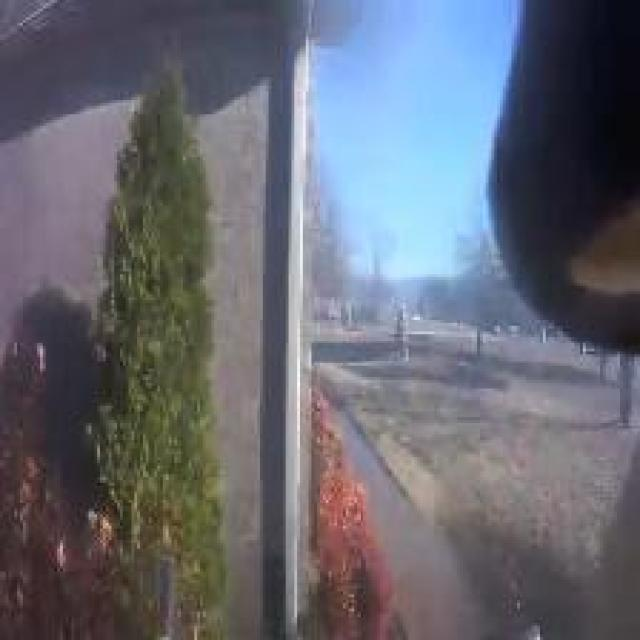other: (295, 376, 401, 624)
